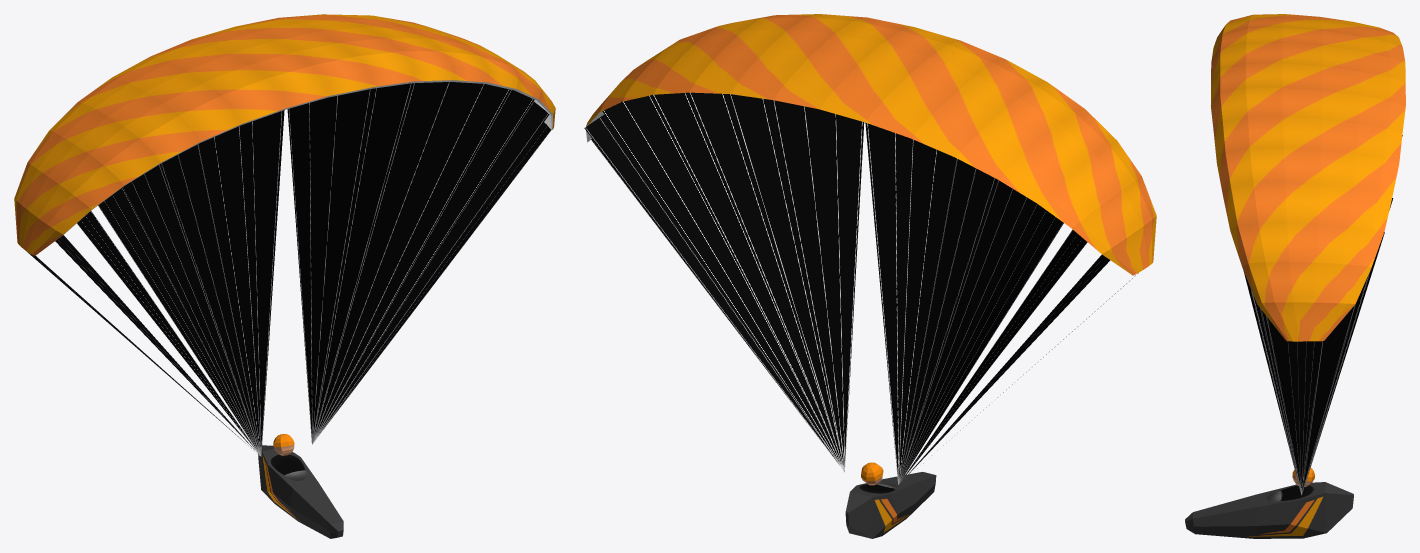
File: wing.glb
3 renders of one model, left to right at view 1: azimuth 30°, elevation 25°; view 2: azimuth 150°, elevation 25°; view 3: azimuth 270°, elevation 25°, orthographic. The views are drawn at different scales.
Visible parts, largest first — view 1: lines, wing, harness; view 2: lines, wing, harness; view 3: wing, lines, harness.
Part boxes in pixels (x1,y1,x2,y2): lines: (27,82,551,456); wing: (14,14,555,255); harness: (258,445,343,538); lines: (584,92,1138,484); wing: (585,14,1156,275); harness: (845,472,936,538); wing: (1211,14,1405,341); lines: (1243,135,1402,495); harness: (1185,482,1353,538).
Size of the model in its own units: 4.06 by 3.39 by 1.44.
4 materials, 4 textured.
